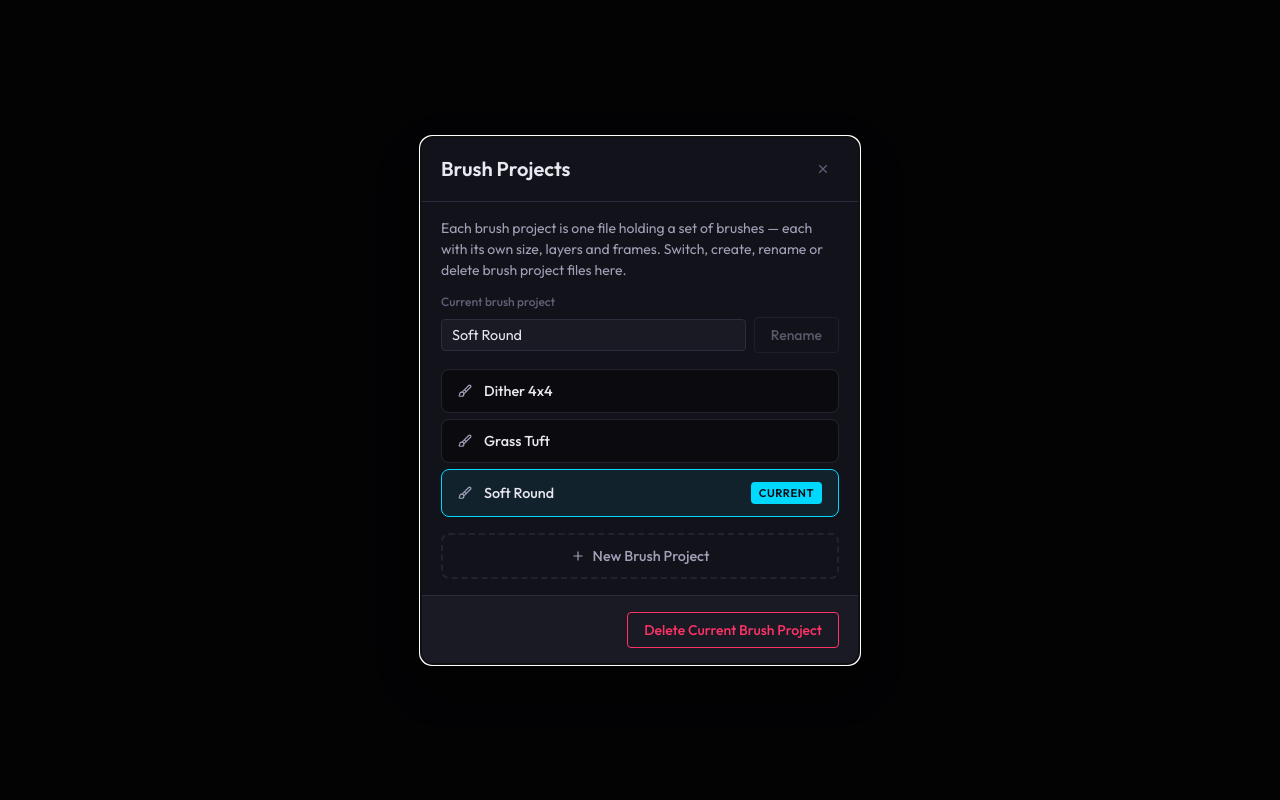
BrushSelectModal — delete asks first › a failed delete keeps the modal open with an error
Click the button "Delete Current Brush Project" at (733, 630), box x1=627 y1=612 x2=839 y2=648
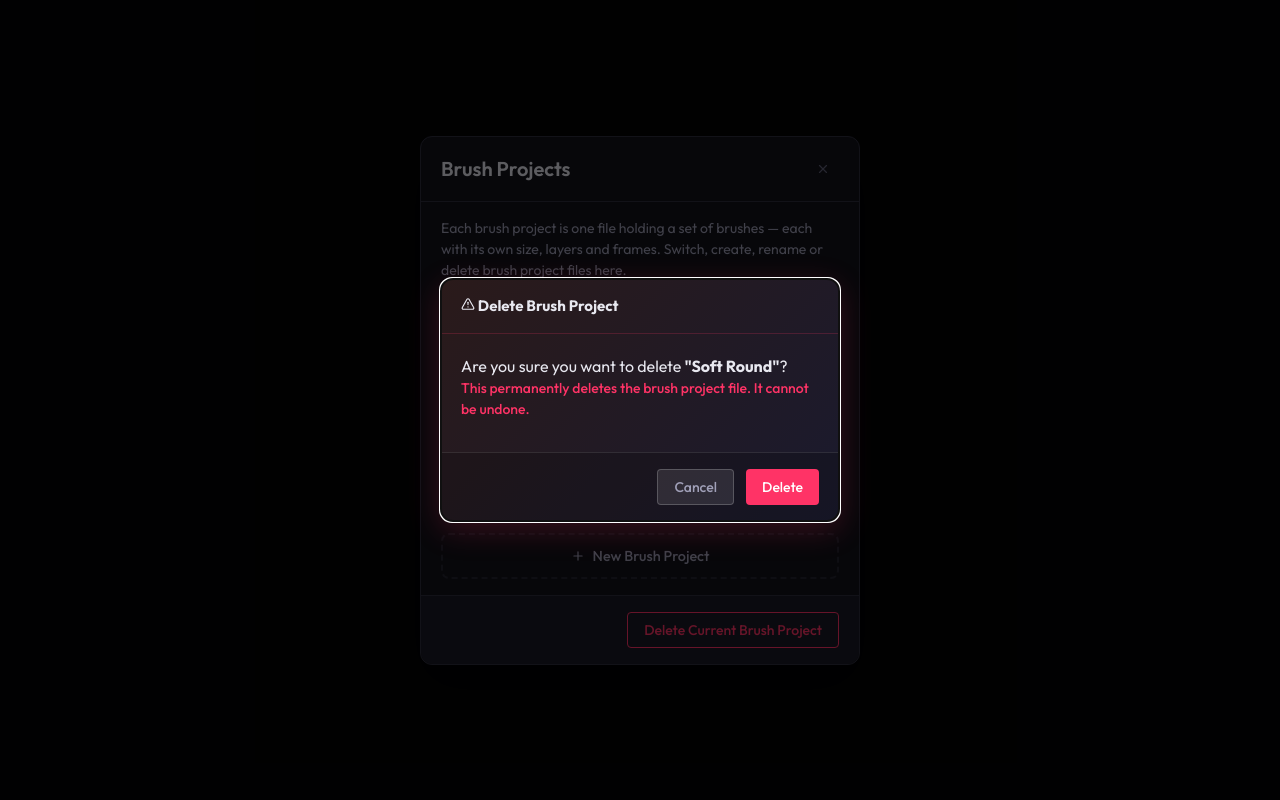
Click the button "Delete" at (782, 487), box x1=746 y1=469 x2=819 y2=505
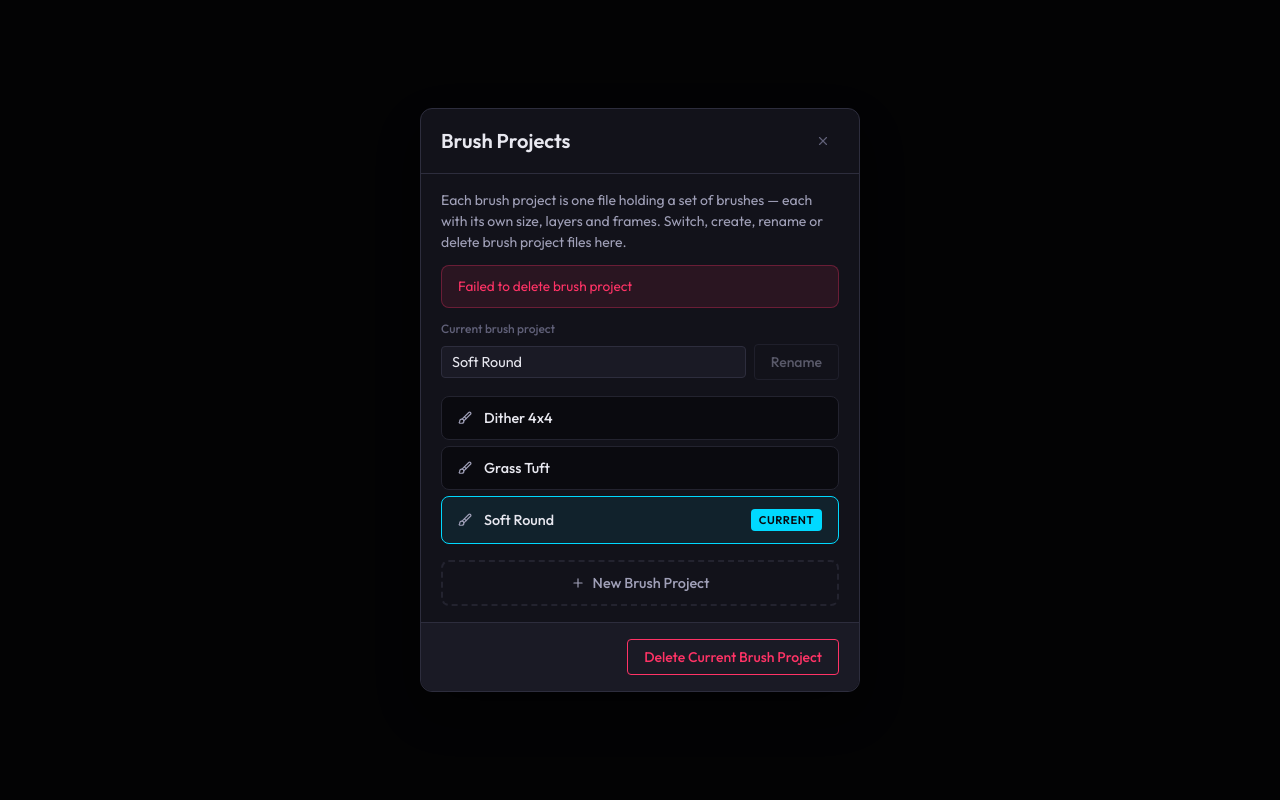
Check: the message reads "Failed to delete brush project", box x1=458 y1=277 x2=632 y2=295
